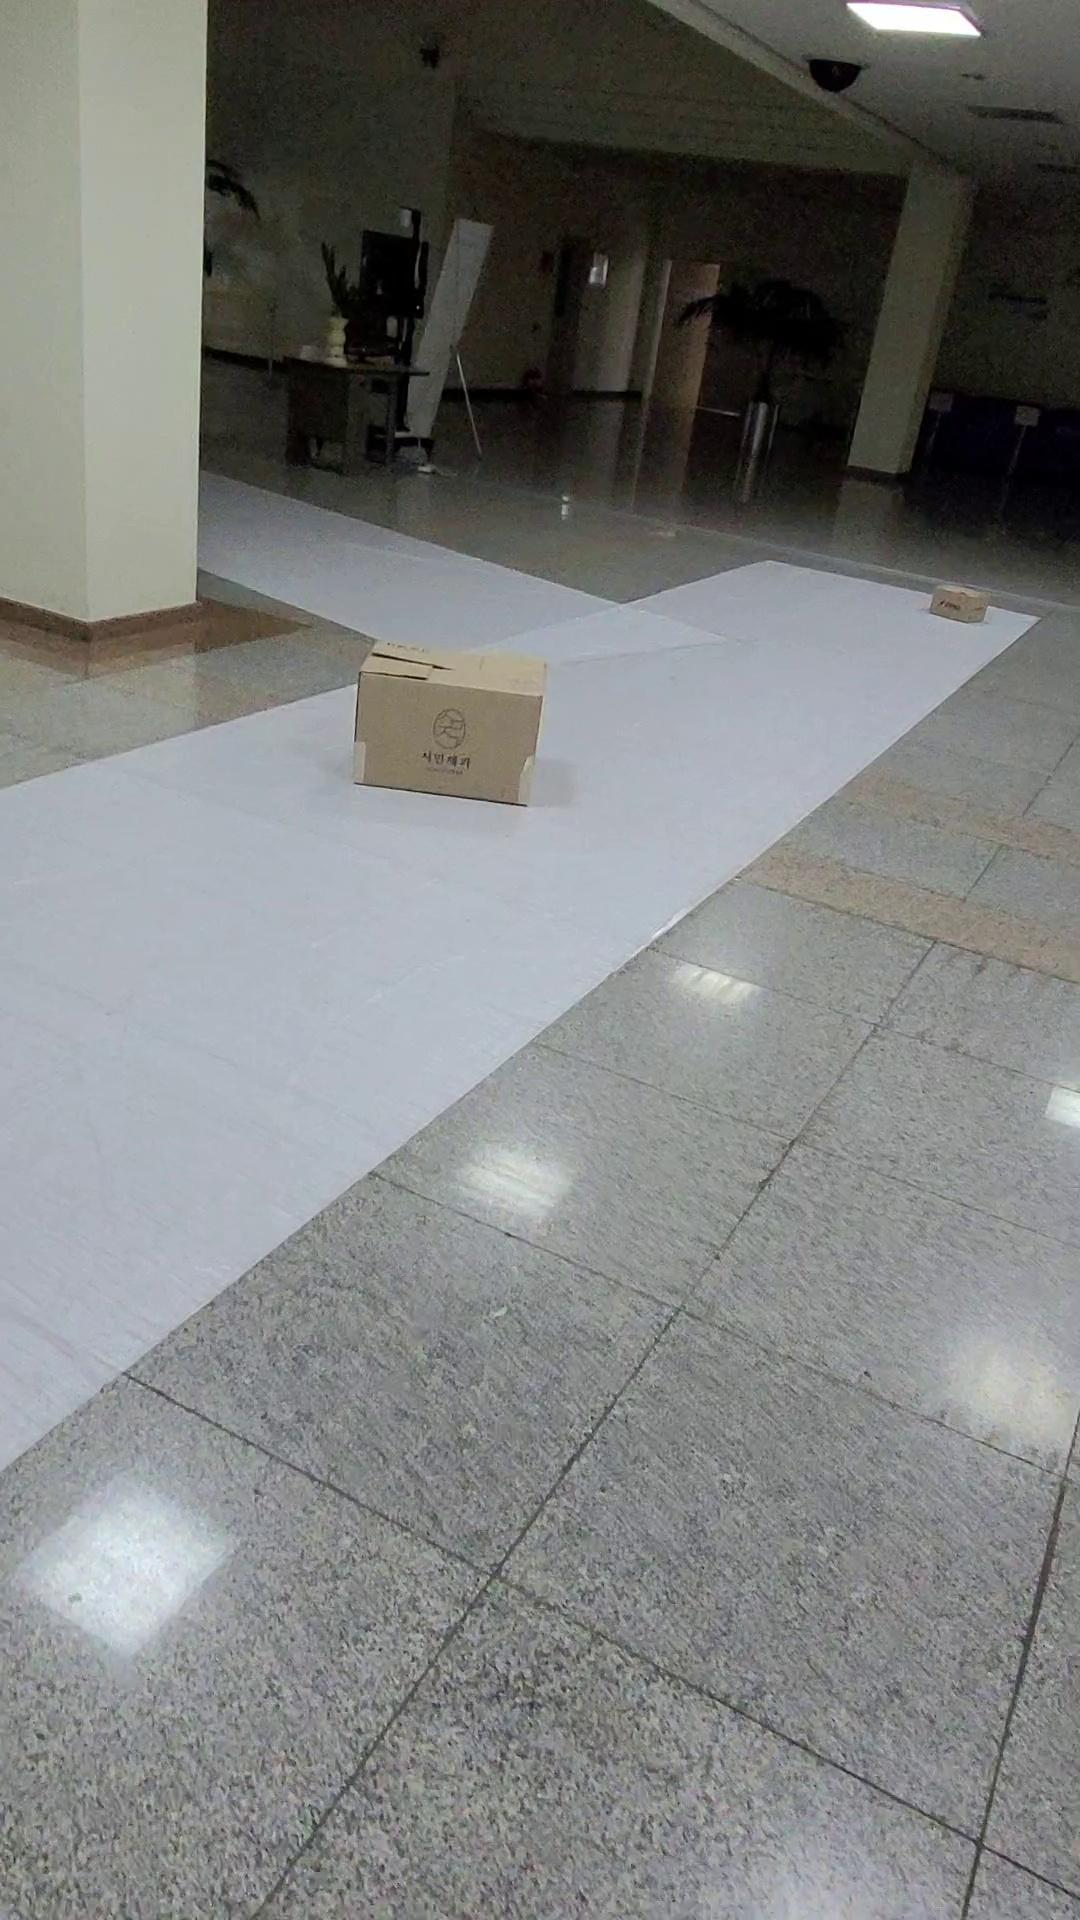Box: (326, 613, 575, 853), (901, 578, 986, 655)
